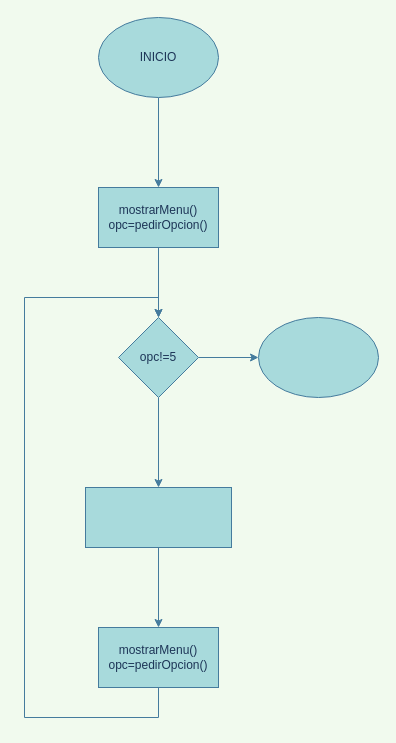
The diagram is 396 pixels wide and 743 high, and some of its shapes have lost their labels. The centre of each missing label's shape, as x and y in pixels:
(*menuPuntero[opc-1]): the point at 158,517
FIN: the point at 318,357
